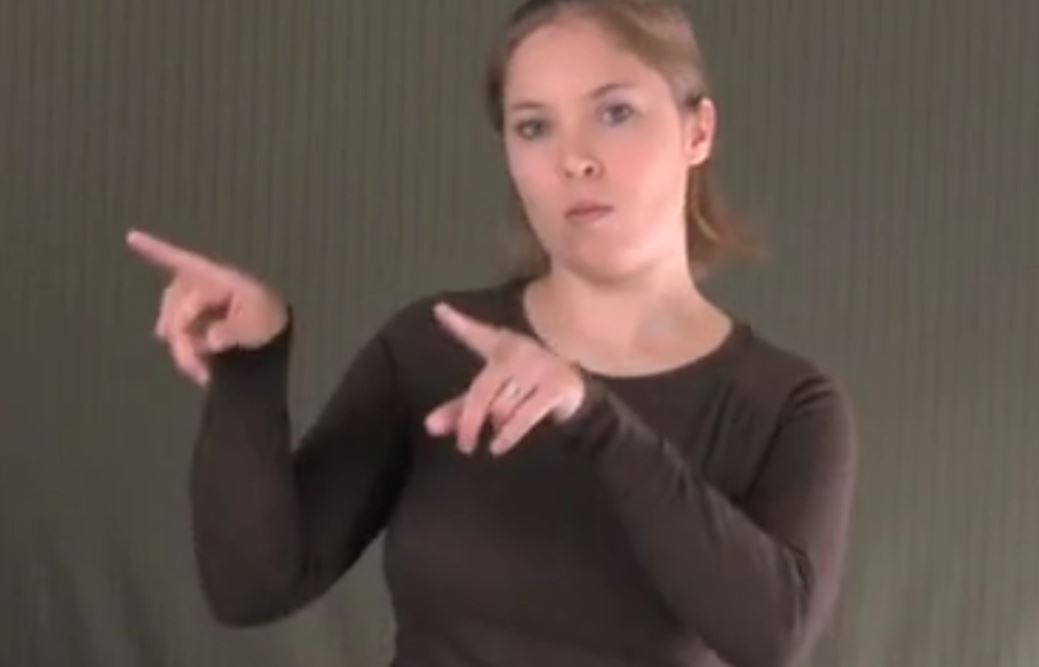go: (93, 208, 632, 491)
